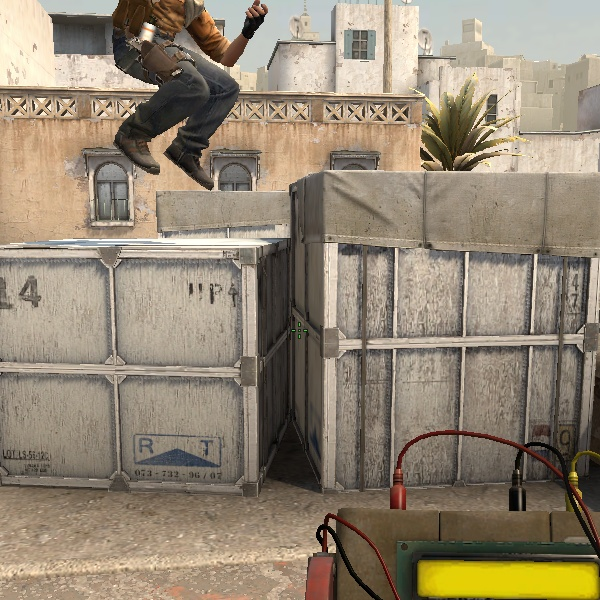t_body: (88, 0, 274, 213)
